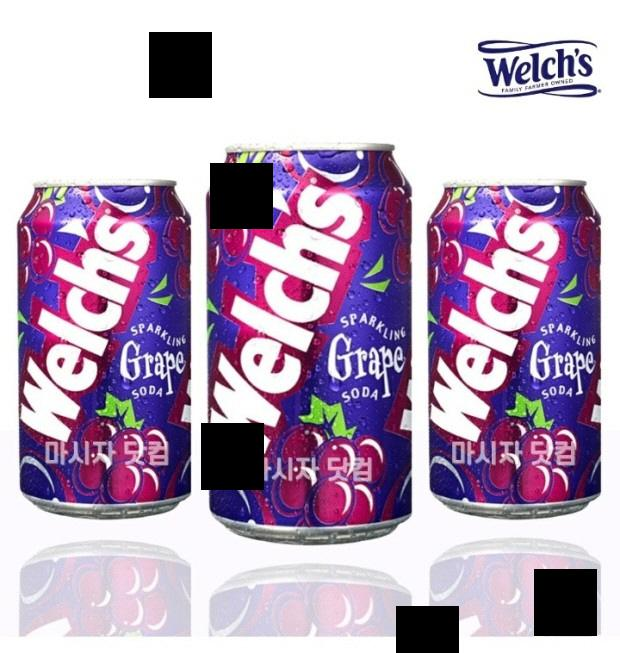welchs_grape: (201, 132, 416, 546), (9, 166, 192, 525), (425, 170, 604, 522)
